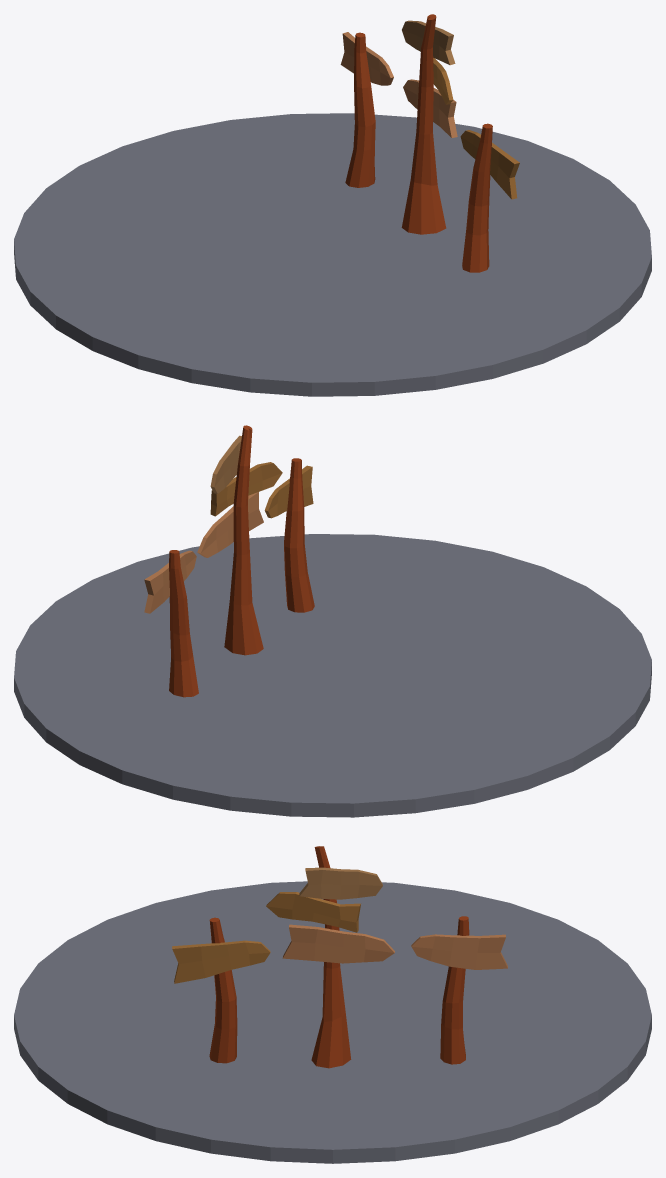
Rendered from Signpost.glb.
3 renders of one model, top to bottom at view 1: azimuth 30°, elevation 25°; view 2: azimuth 150°, elevation 25°; view 3: azimuth 270°, elevation 25°, orthographic.
Parts seen in each view (by area): view 1: Circle, Pfoten1, Pfosten3, Pfosten2, Schild 2, Schild3, Schild, Schild1, Schild2; view 2: Circle, Pfoten1, Pfosten2, Pfosten3, Schild1, Schild2, Schild, Schild 2, Schild3; view 3: Circle, Schild1, Pfoten1, Schild 2, Schild, Pfosten2, Pfosten3, Schild2, Schild3.
Boxes of the visible parts, x1=… form: Circle: x1=14, y1=113, x2=651, y2=396; Pfoten1: x1=401, y1=14, x2=446, y2=234; Pfosten3: x1=345, y1=32, x2=375, y2=187; Pfosten2: x1=462, y1=123, x2=492, y2=272; Schild 2: x1=460, y1=130, x2=519, y2=199; Schild3: x1=402, y1=20, x2=455, y2=65; Schild: x1=340, y1=32, x2=393, y2=85; Schild1: x1=403, y1=79, x2=457, y2=137; Schild2: x1=433, y1=58, x2=453, y2=104; Circle: x1=14, y1=534, x2=651, y2=817; Pfoten1: x1=224, y1=425, x2=263, y2=655; Pfosten2: x1=284, y1=458, x2=314, y2=612; Pfosten3: x1=169, y1=550, x2=198, y2=697; Schild1: x1=197, y1=492, x2=263, y2=557; Schild2: x1=210, y1=462, x2=282, y2=516; Schild: x1=144, y1=550, x2=196, y2=613; Schild 2: x1=264, y1=465, x2=313, y2=518; Schild3: x1=210, y1=435, x2=241, y2=493; Circle: x1=14, y1=881, x2=651, y2=1163; Schild1: x1=282, y1=924, x2=394, y2=963; Pfoten1: x1=311, y1=846, x2=351, y2=1068; Schild 2: x1=172, y1=940, x2=270, y2=983; Schild: x1=411, y1=934, x2=507, y2=969; Pfosten2: x1=209, y1=917, x2=237, y2=1063; Pfosten3: x1=440, y1=916, x2=469, y2=1064; Schild2: x1=266, y1=892, x2=360, y2=932; Schild3: x1=299, y1=867, x2=382, y2=899.
Size of the model in its own units: 4.87 by 2.3 by 4.87.
